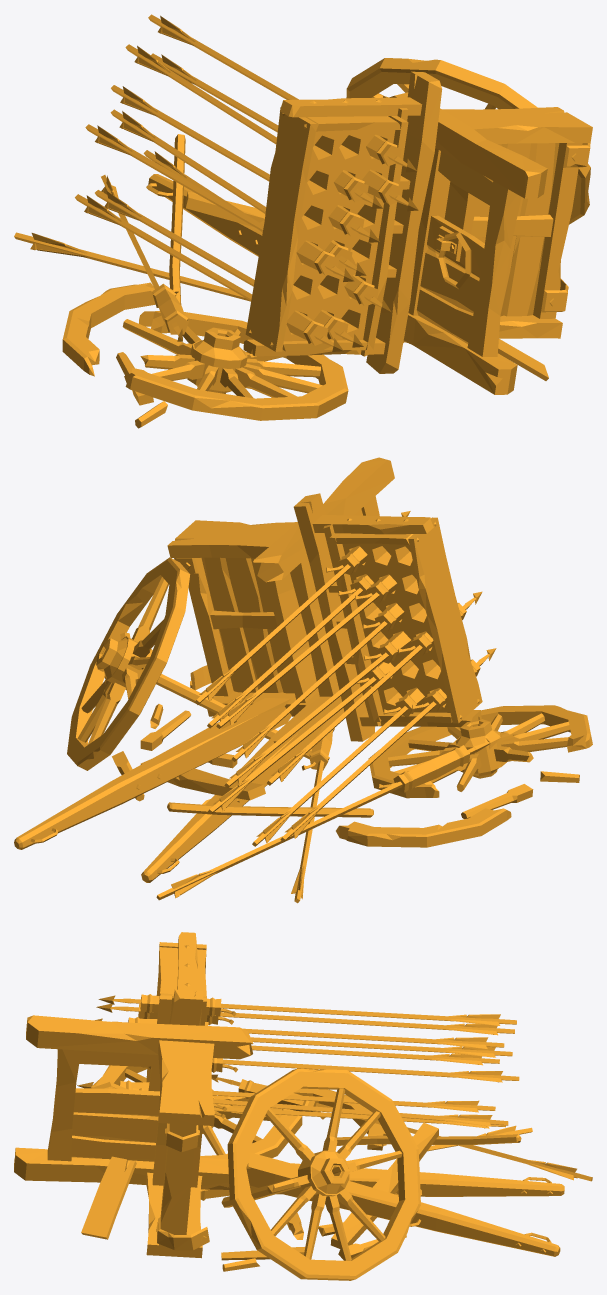
The model's file is SM_Hwacha_Broken.fbx.
3 views of the same model, one above another, from view 1: azimuth 30°, elevation 25°; view 2: azimuth 150°, elevation 25°; view 3: azimuth 270°, elevation 25° (orthographic). The views are drawn at different scales.
Parts seen in each view (by area): view 1: hwacha-broken; view 2: hwacha-broken; view 3: hwacha-broken.
Boxes of the visible parts, box(x1,y1,x2,y2) form: hwacha-broken: box(14, 14, 592, 428); hwacha-broken: box(14, 457, 592, 903); hwacha-broken: box(14, 932, 592, 1280).
Size of the model in its own units: 2.05 by 1.08 by 2.42.
